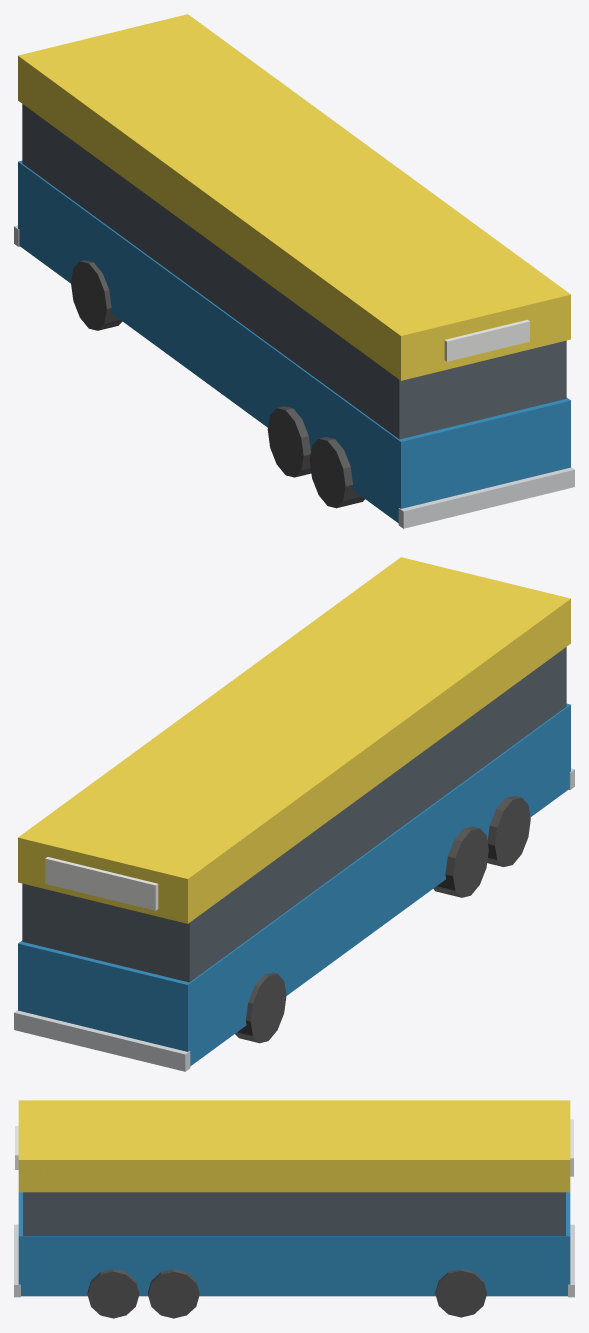
The model's file is kolkata_bus.glb.
3 views of the same model, one above another, from view 1: azimuth 30°, elevation 25°; view 2: azimuth 150°, elevation 25°; view 3: azimuth 270°, elevation 25° (orthographic). The views are drawn at different scales.
Visible parts, largest first — view 1: kolkata_bus; view 2: kolkata_bus; view 3: kolkata_bus.
Part boxes in pixels (bbox=[...]): kolkata_bus: bbox=[14, 14, 574, 528]; kolkata_bus: bbox=[14, 557, 574, 1071]; kolkata_bus: bbox=[14, 1100, 574, 1318].
Size of the model in its own units: 2.68 by 2.99 by 9.76.
